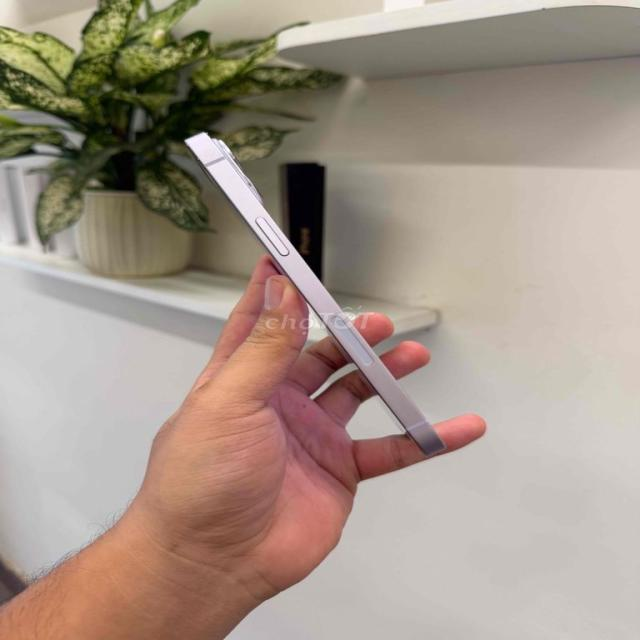gen_14: (186, 132, 445, 454)
